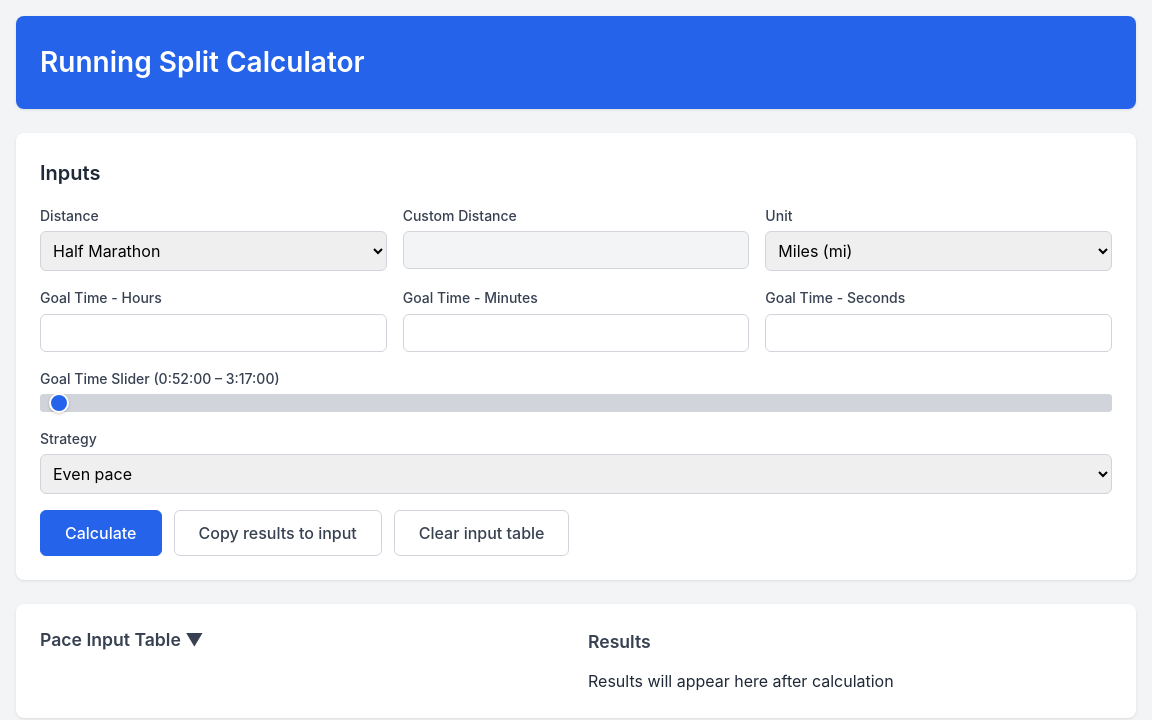
Test case: UI Input Table › should clear input when clear button is clicked
Click the button "Pace Input Table ▼" at [113, 640], box [40,629,564,662]
(page scrolled)
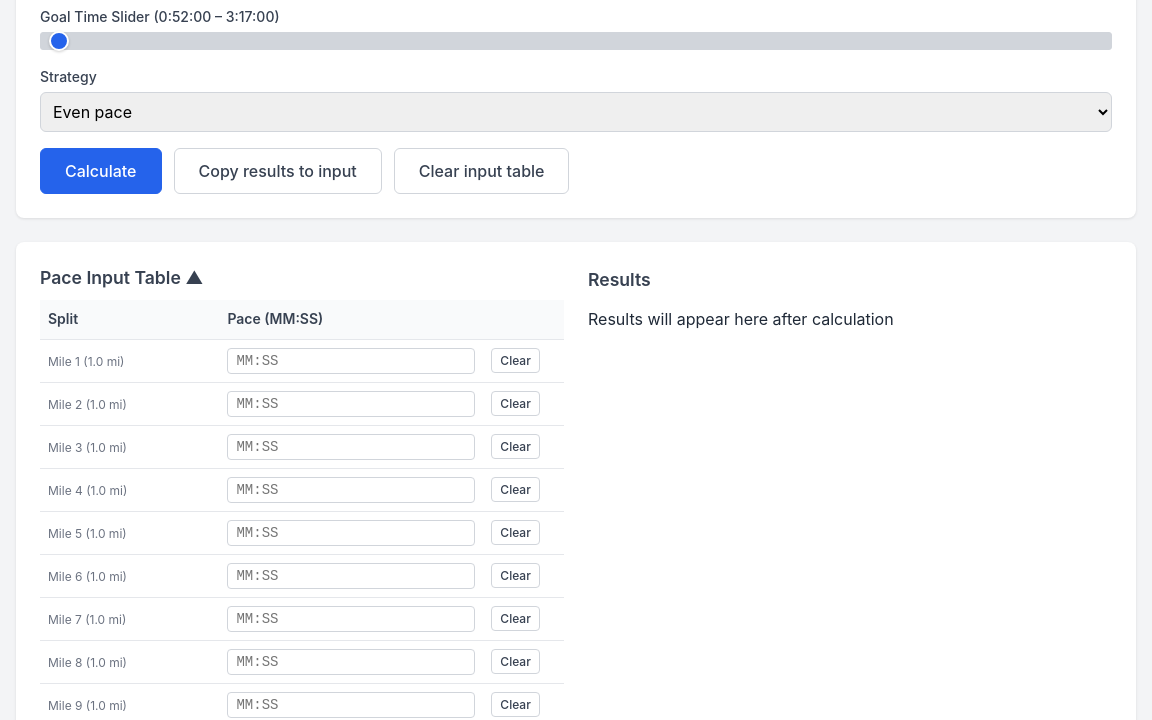
Type "05:30" into the field with placeholder "MM:SS" next to "Mile 1 (1.0 mi)" at [351, 361], box [227,348,475,374]
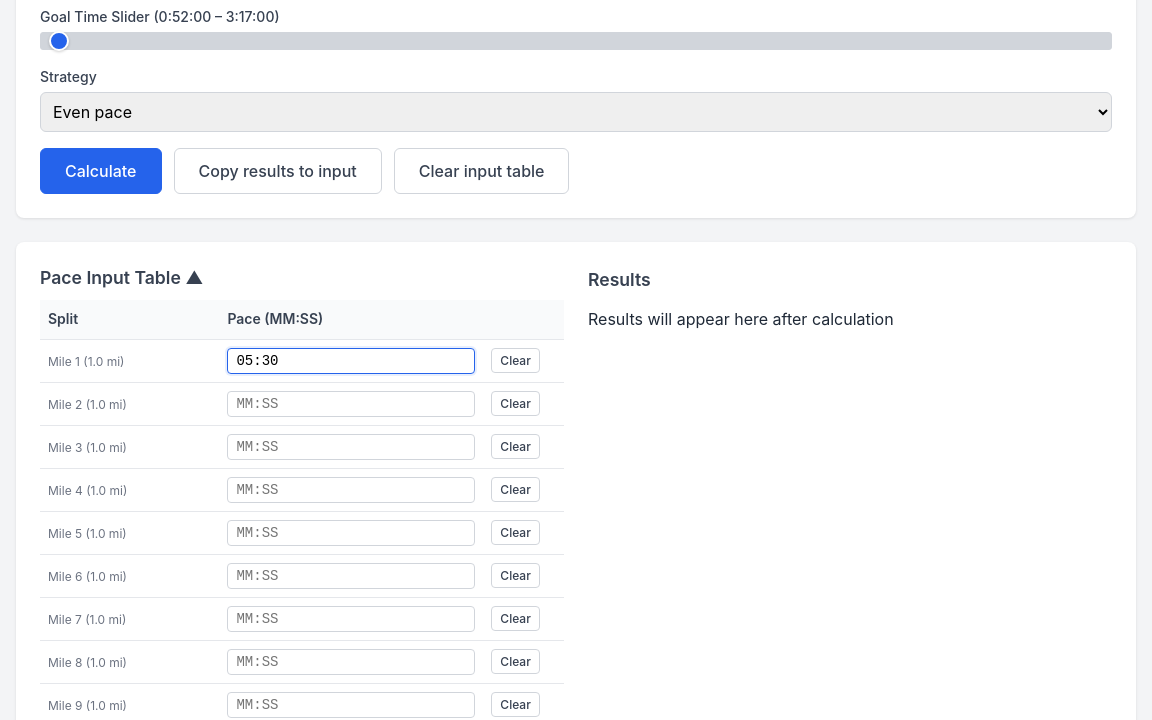
Click the button "Clear" in the row of "Mile 1 (1.0 mi)" at [516, 361], box [491,348,540,373]
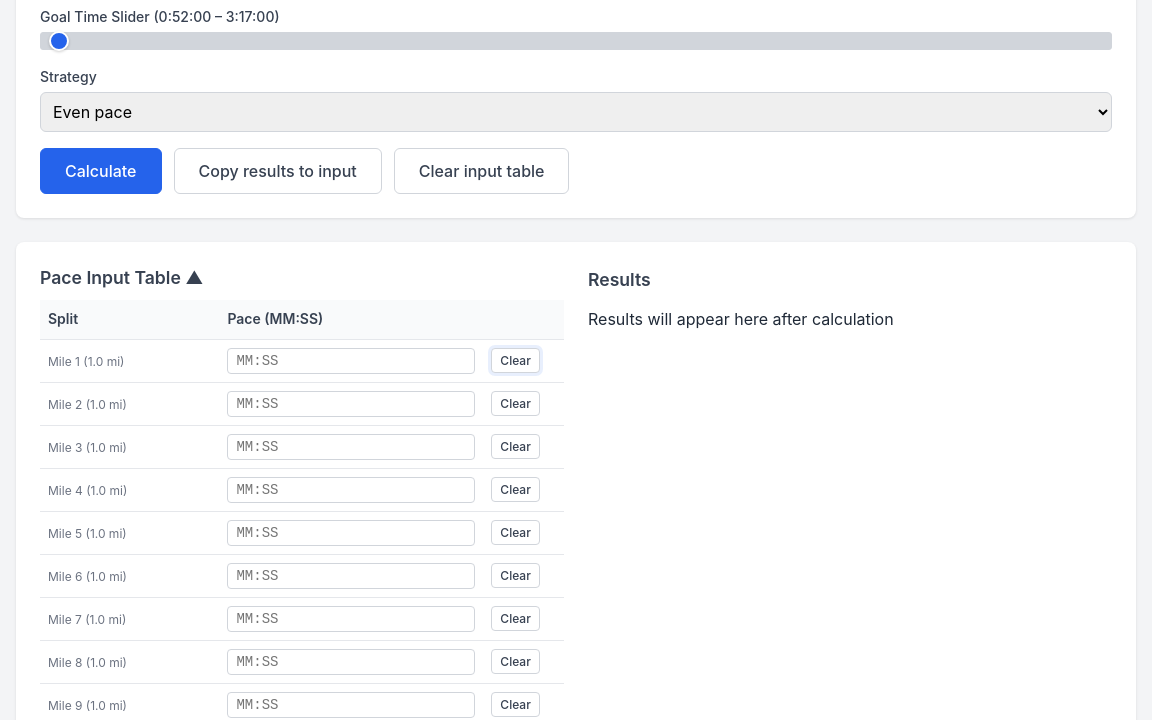
Result: the field with placeholder "MM:SS" next to "Mile 1 (1.0 mi)" is empty at [227,348,475,374]
